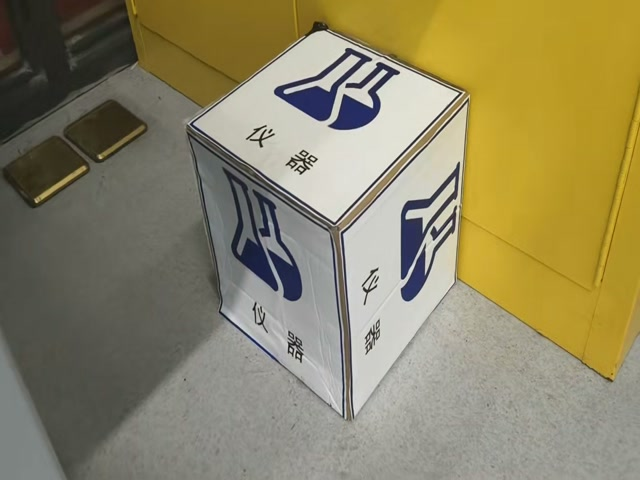Cube_ins: (179, 31, 463, 233)
